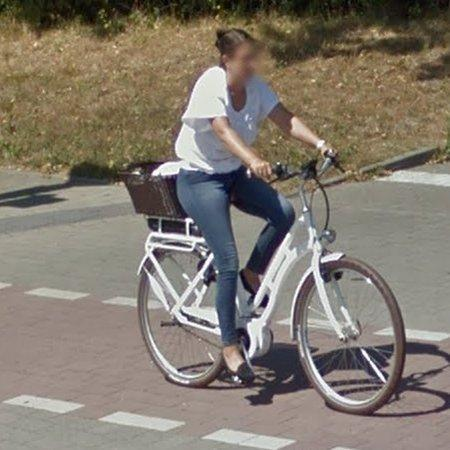bicycles: (237, 161, 406, 414), (125, 172, 225, 387)
